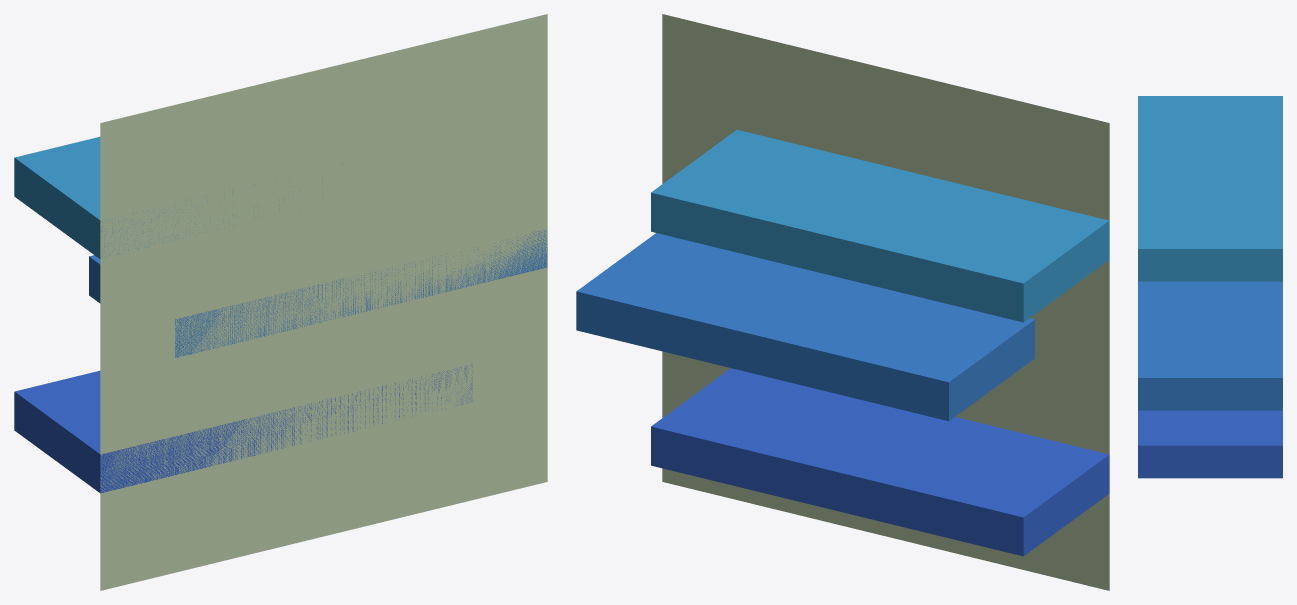
File: 3_test_zigzag.dae
The picture shows the model from 3 angles, left to right: view 1: azimuth 30°, elevation 25°; view 2: azimuth 150°, elevation 25°; view 3: azimuth 270°, elevation 25°; orthographic projection. The views are drawn at different scales.
Visible parts, largest first — view 1: Suelo, Pared3, Pared2, Pared1; view 2: Suelo, Pared1, Pared3, Pared2; view 3: Pared1, Pared2, Pared3.
Part boxes in pixels (x1,y1,x2,y2): Suelo: (100,14,547,590); Pared3: (14,364,472,493); Pared2: (89,229,547,357); Pared1: (14,136,343,258); Suelo: (662,14,1109,590); Pared1: (651,129,1109,322); Pared3: (651,368,1109,556); Pared2: (576,233,1034,421); Pared1: (1138,96,1282,281); Pared2: (1138,281,1282,410); Pared3: (1138,410,1282,478).
Bounding box in the file's own units: 60 × 20 × 60.
